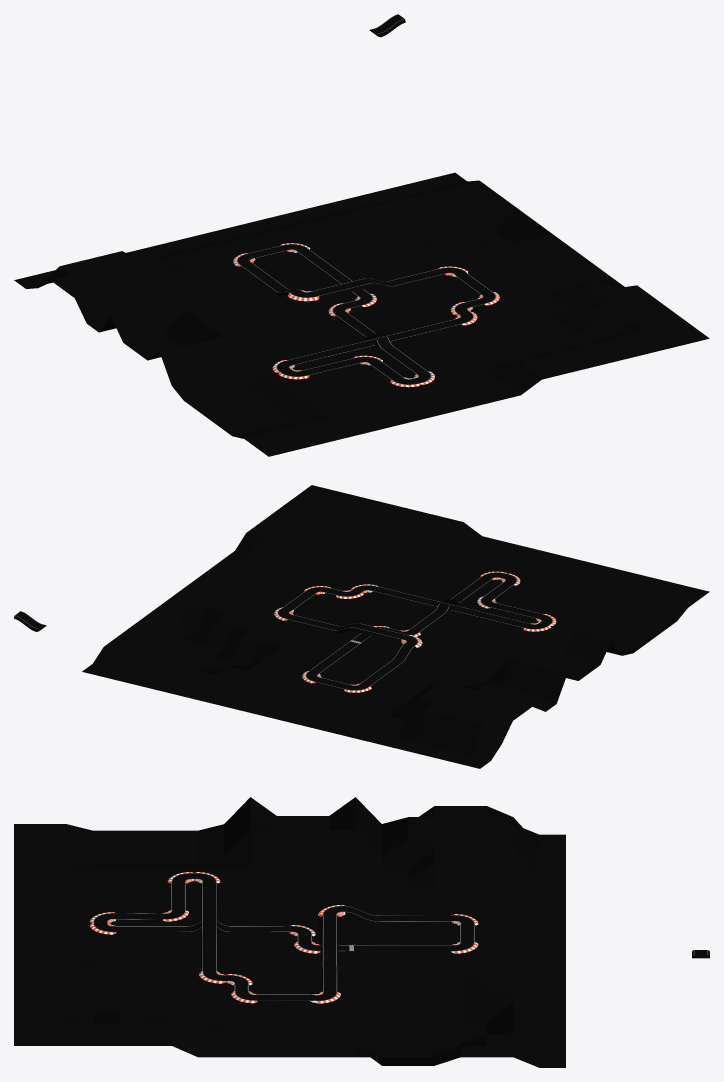
File: trackBasic.fbx
3 renders of one model, top to bottom at view 1: azimuth 30°, elevation 25°; view 2: azimuth 150°, elevation 25°; view 3: azimuth 270°, elevation 25°, orthographic. The views are drawn at different scales.
Visible parts, largest first — view 1: Terrain, Straight.009; view 2: Terrain, Straight.009, Straight.015; view 3: Terrain, Straight.009, Straight.015, Straight.006, Overhang.001, Straight.013, Straight.004, Straight.012, Straight.010, Straight.008, Straight.011.
Part boxes in pixels (x1,y1,x2,y2): Terrain: (14, 172, 709, 456); Straight.009: (288, 319, 462, 365); Terrain: (82, 485, 709, 768); Straight.009: (372, 587, 529, 628); Straight.015: (309, 641, 360, 674); Terrain: (14, 797, 565, 1067); Straight.009: (201, 882, 217, 971); Straight.015: (354, 945, 450, 952); Straight.006: (116, 925, 187, 933); Overhang.001: (318, 916, 341, 967); Straight.013: (380, 915, 450, 922); Straight.004: (229, 925, 289, 933); Straight.012: (321, 916, 338, 944); Straight.010: (257, 994, 311, 1002); Straight.008: (170, 883, 186, 910); Straight.011: (321, 967, 338, 991).
Bounding box in the file's own units: 622 × 154 × 769.
6 materials, 6 textured.
